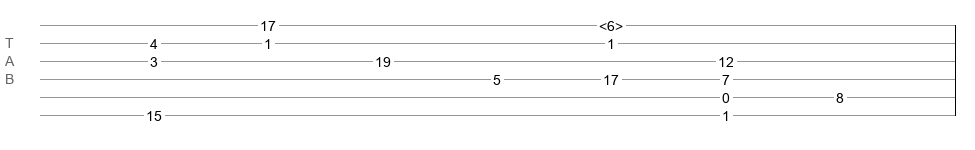0: (722, 90, 730, 100)
1: (264, 36, 272, 46), (607, 36, 615, 46), (722, 108, 730, 118)
12: (718, 54, 734, 64)
15: (146, 108, 162, 118)
17: (260, 18, 276, 28), (603, 72, 619, 82)
19: (375, 54, 391, 64)
3: (150, 54, 158, 64)
4: (150, 36, 158, 46)
5: (493, 72, 501, 82)
7: (722, 72, 730, 82)
8: (836, 90, 844, 100)
harmonic: (599, 18, 623, 28)
